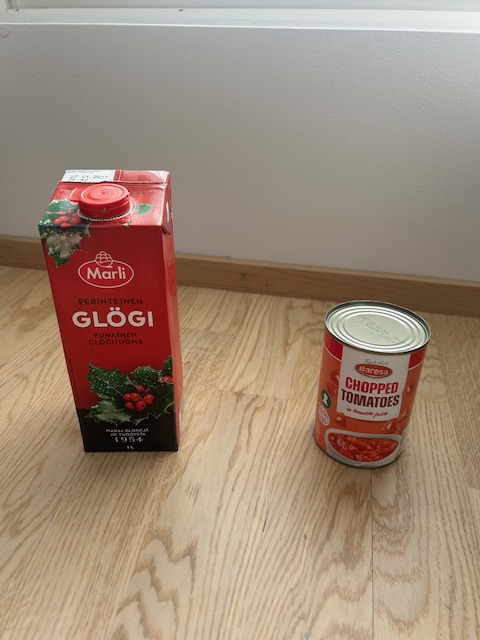Dryckeskartong: (38, 169, 185, 453)
Konservburk: (312, 299, 433, 471)
